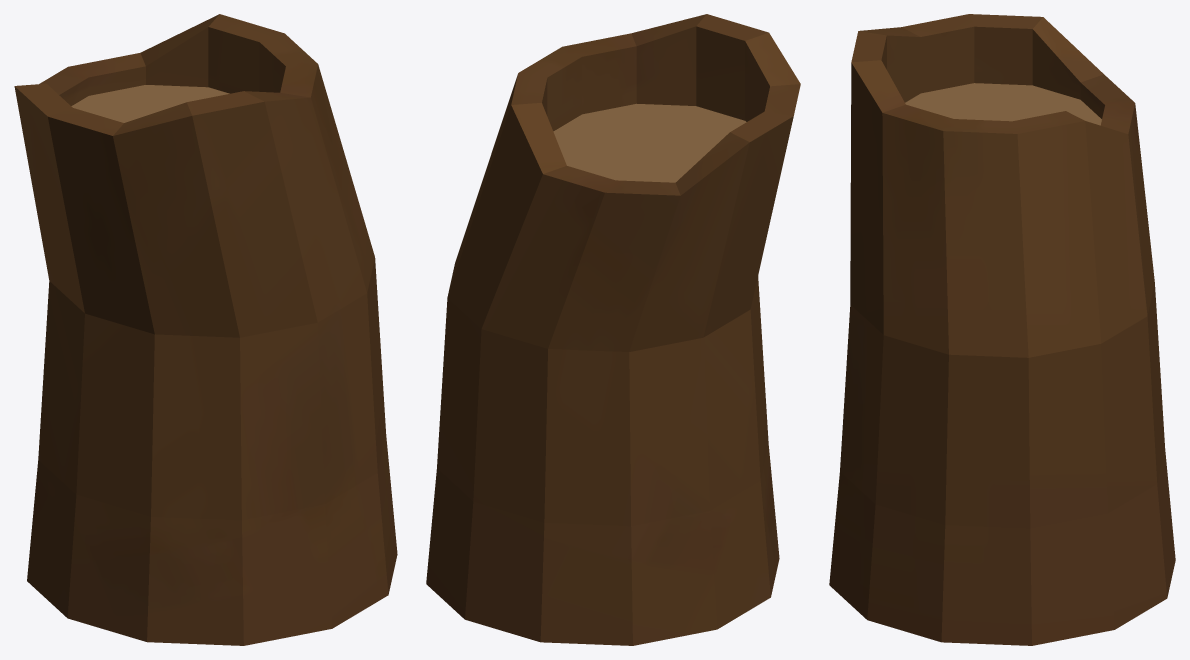
File: Trunks16.gltf
3 views of the same model, side by side, from view 1: azimuth 30°, elevation 25°; view 2: azimuth 150°, elevation 25°; view 3: azimuth 270°, elevation 25° (orthographic). The views are drawn at different scales.
Parts seen in each view (by area): view 1: Trunk3 - copy.002; view 2: Trunk3 - copy.002; view 3: Trunk3 - copy.002.
Boxes of the visible parts, x1,y1,x2,y2 form: Trunk3 - copy.002: (14, 14, 397, 645); Trunk3 - copy.002: (426, 14, 800, 645); Trunk3 - copy.002: (829, 14, 1175, 645).
Bounding box in the file's own units: 0.4759 × 0.7059 × 0.4455.
1 material, 1 textured.
